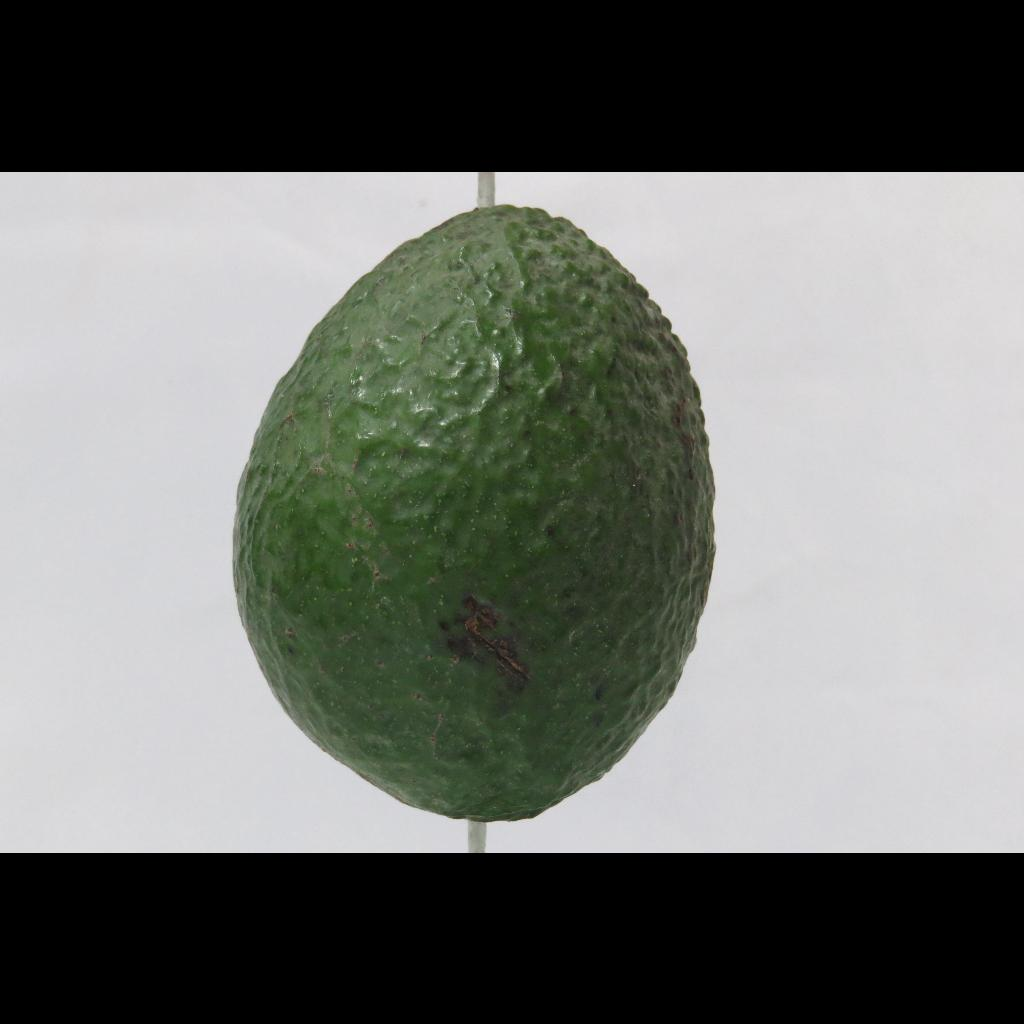Healthy: (190, 192, 814, 840)
